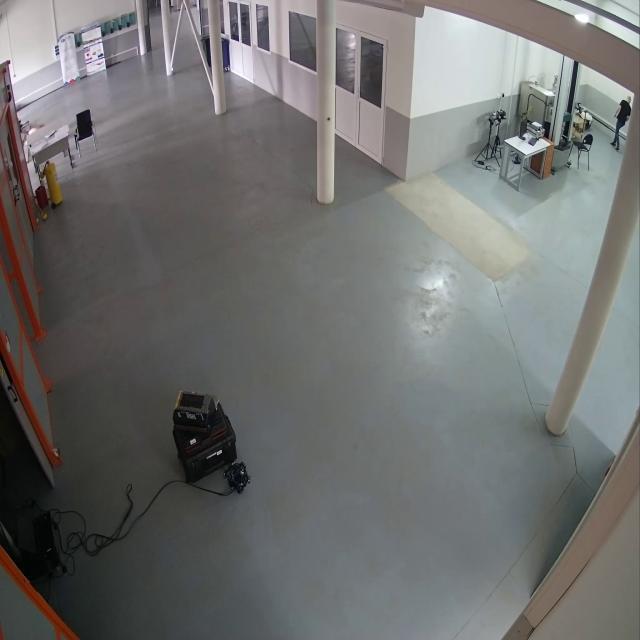NO-Hardhat: (628, 94, 632, 101)
Person: (609, 94, 632, 152)
